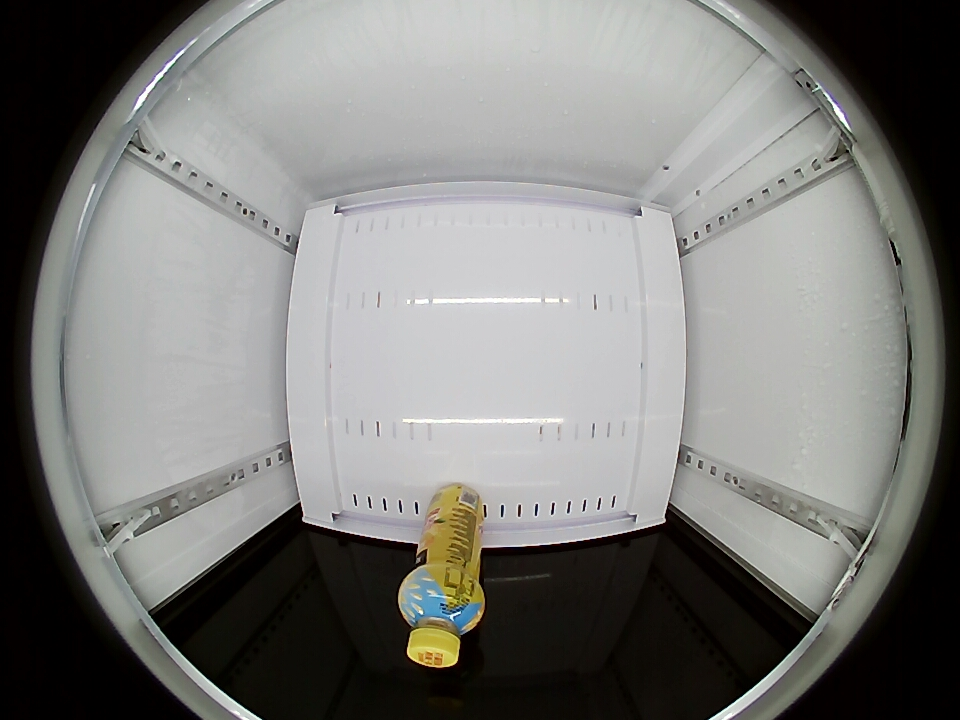guolicheng: (399, 564, 485, 669)
